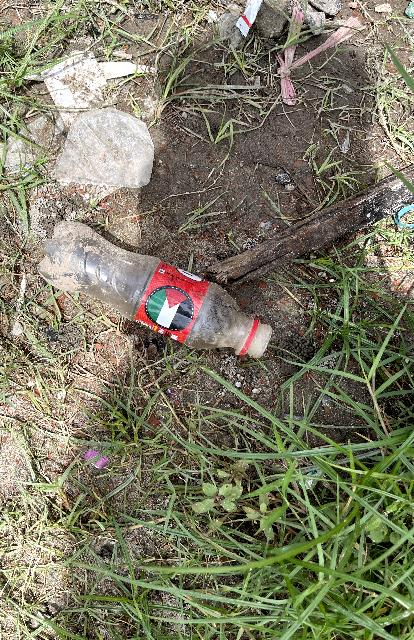bottle: (46, 201, 275, 360)
